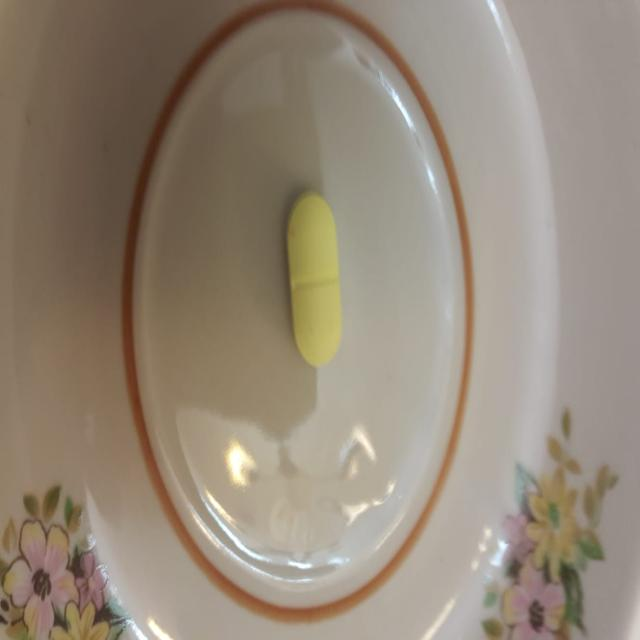pills: (280, 180, 348, 376)
